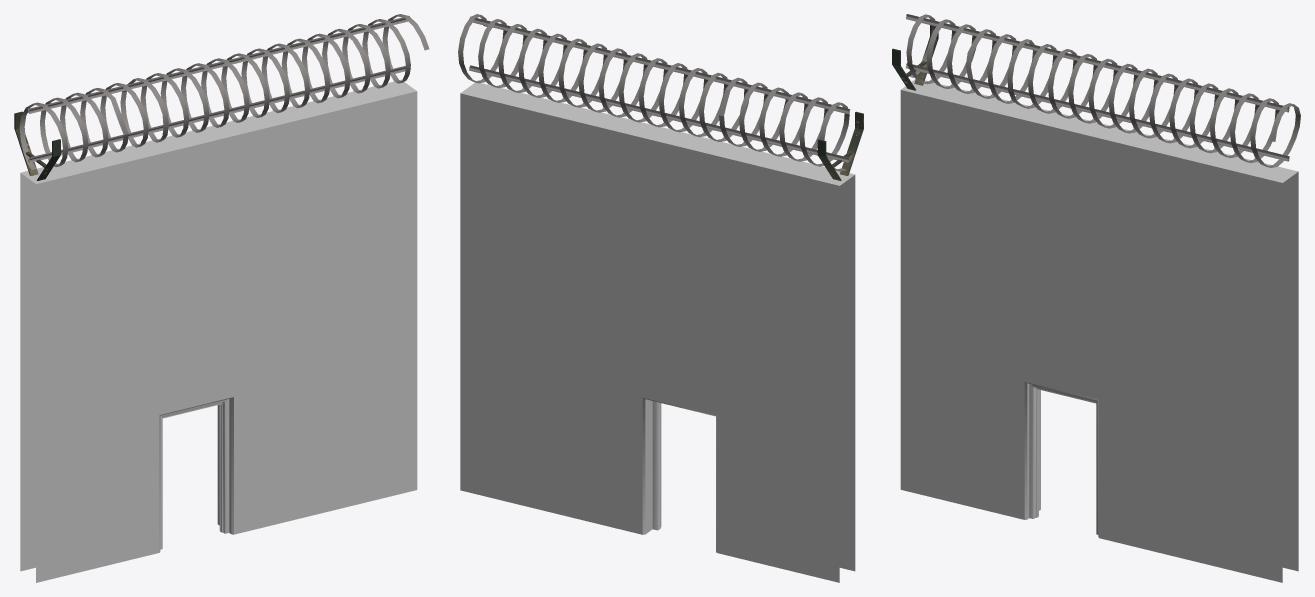
The model's file is SM_Wall_Perimeter_Door.fbx.
The picture shows the model from 3 angles, left to right: view 1: azimuth 30°, elevation 25°; view 2: azimuth 150°, elevation 25°; view 3: azimuth 330°, elevation 25°; orthographic projection.
Visible parts, largest first — view 1: SM_Wall_Perimeter_Door_LOD0; view 2: SM_Wall_Perimeter_Door_LOD0; view 3: SM_Wall_Perimeter_Door_LOD0.
Part boxes in pixels (box(x1,y1,x2,y2)): SM_Wall_Perimeter_Door_LOD0: box(14, 14, 429, 582); SM_Wall_Perimeter_Door_LOD0: box(458, 14, 863, 582); SM_Wall_Perimeter_Door_LOD0: box(892, 14, 1300, 582).
Bounding box in the file's own units: 705 × 123 × 824.
